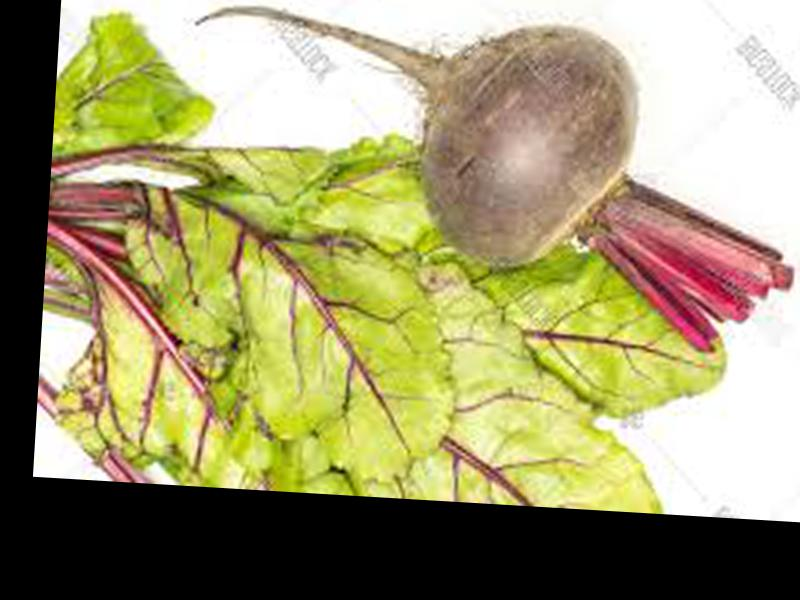Beet: (178, 2, 800, 356)
